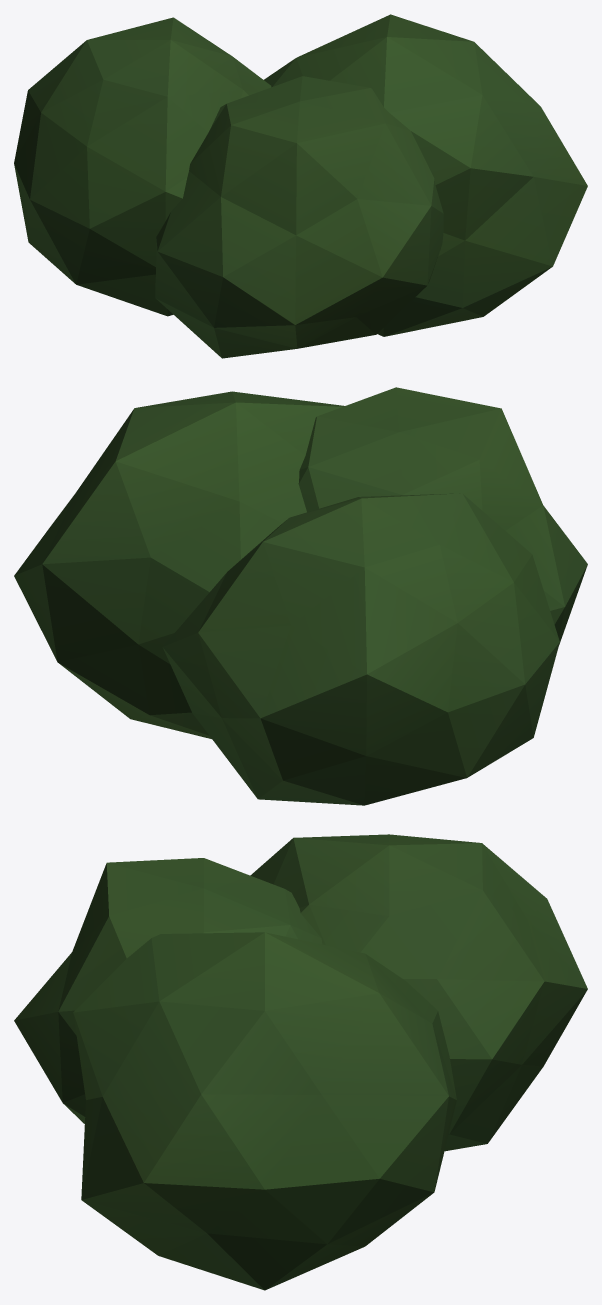
Rendered from veg_hack_0.glb.
The picture shows the model from 3 angles, top to bottom: view 1: azimuth 30°, elevation 25°; view 2: azimuth 150°, elevation 25°; view 3: azimuth 270°, elevation 25°; orthographic projection. The views are drawn at different scales.
Parts seen in each view (by area): view 1: geometry_0; view 2: geometry_0; view 3: geometry_0.
Part boxes in pixels (x1,y1,x2,y2): geometry_0: (14, 14, 587, 358); geometry_0: (14, 387, 587, 805); geometry_0: (14, 834, 587, 1290).
Bounding box in the file's own units: 1.8 × 1 × 1.69.
